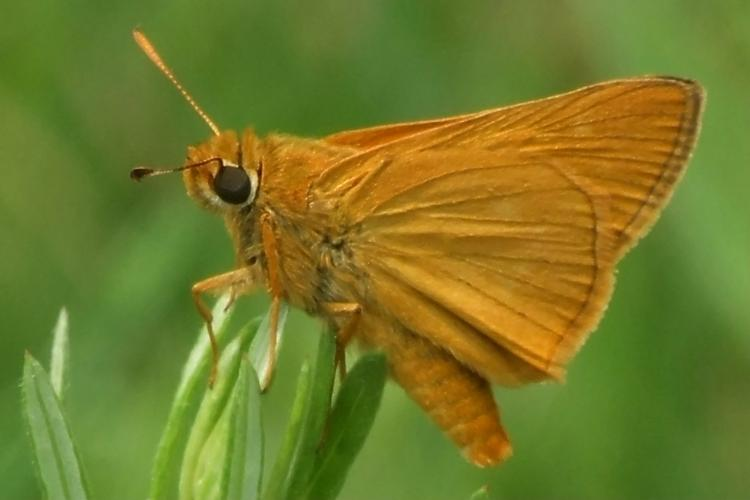Hesperiidae: (126, 29, 704, 469)
